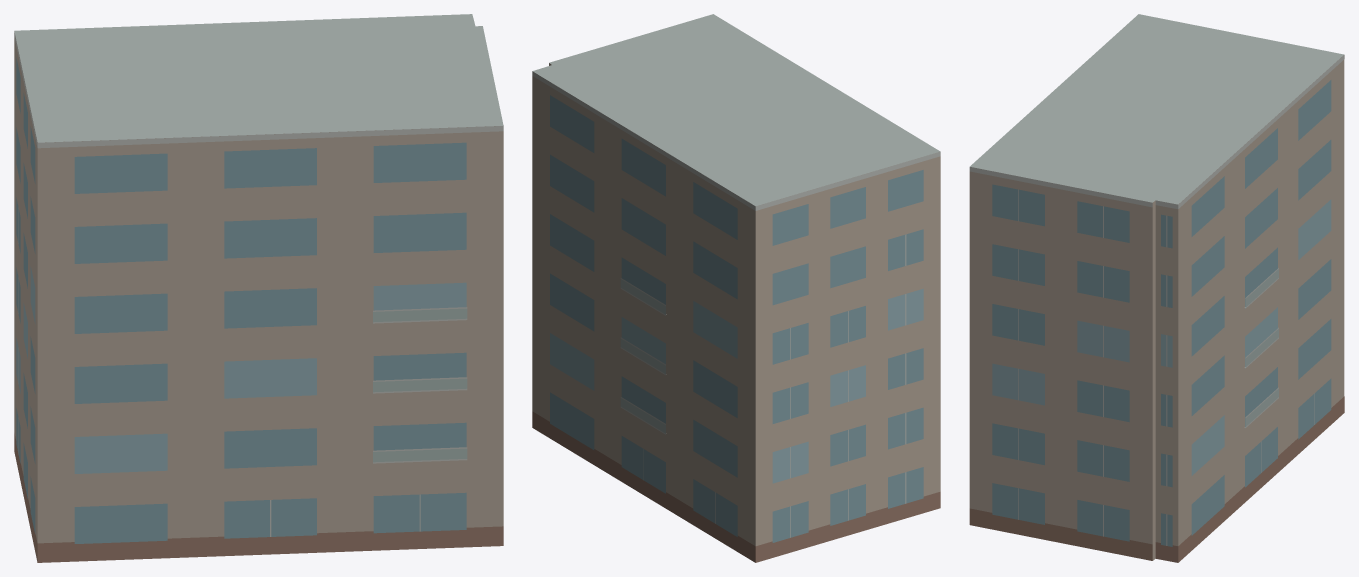
Rendered from survey-upis-33007764.glb.
The picture shows the model from 3 angles, left to right: view 1: azimuth 30°, elevation 25°; view 2: azimuth 150°, elevation 25°; view 3: azimuth 270°, elevation 25°; orthographic projection. The views are drawn at different scales.
Parts seen in each view (by area): view 1: survey-upis-33007764.tmp; view 2: survey-upis-33007764.tmp; view 3: survey-upis-33007764.tmp.
Boxes of the visible parts, box(x1,y1,x2,y2) form: survey-upis-33007764.tmp: box(14, 14, 503, 562); survey-upis-33007764.tmp: box(532, 14, 940, 562); survey-upis-33007764.tmp: box(969, 14, 1344, 562).
Size of the model in its own units: 21.11 by 18.5 by 17.55.
